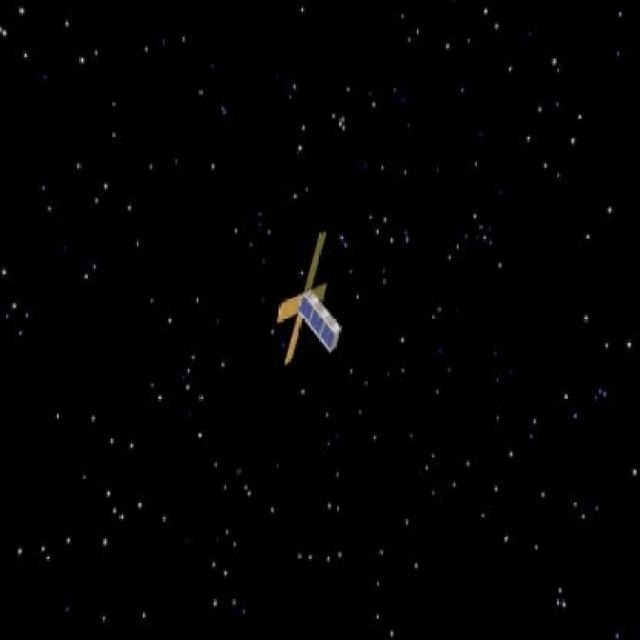satellite: (253, 225, 355, 375)
